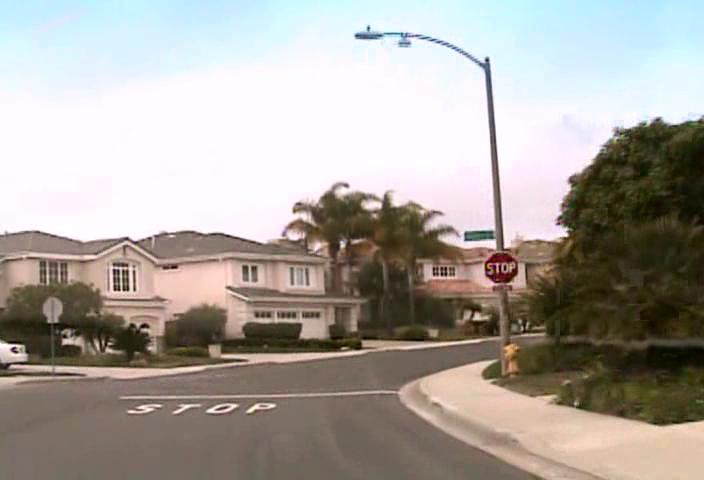stop: (484, 251, 519, 284)
